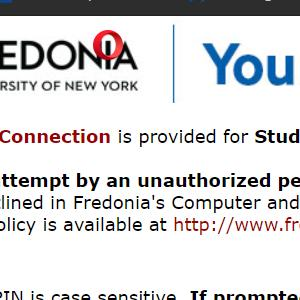opera: (93, 29, 122, 60)
